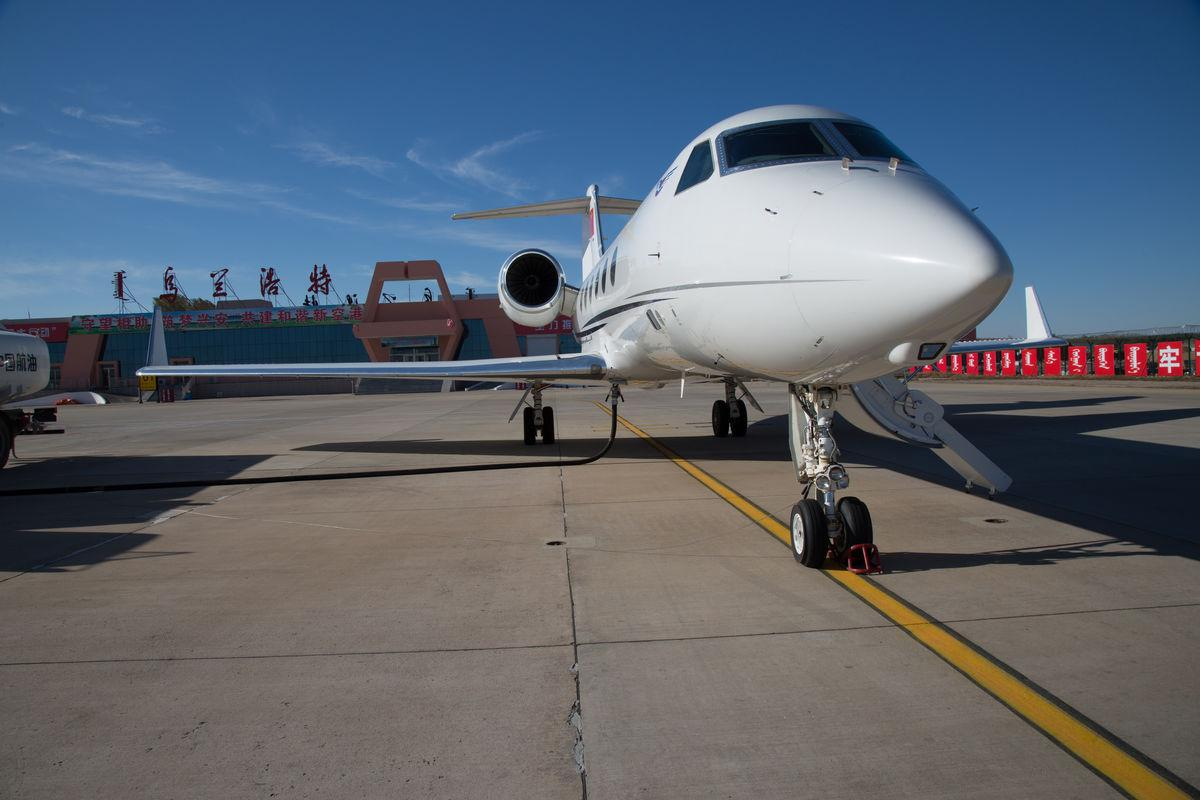airplane: (126, 71, 1076, 638)
